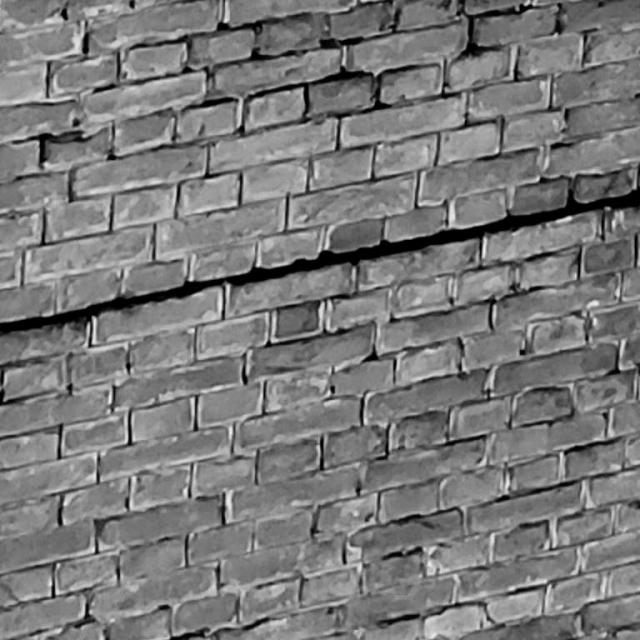crack: (1, 189, 638, 333)
